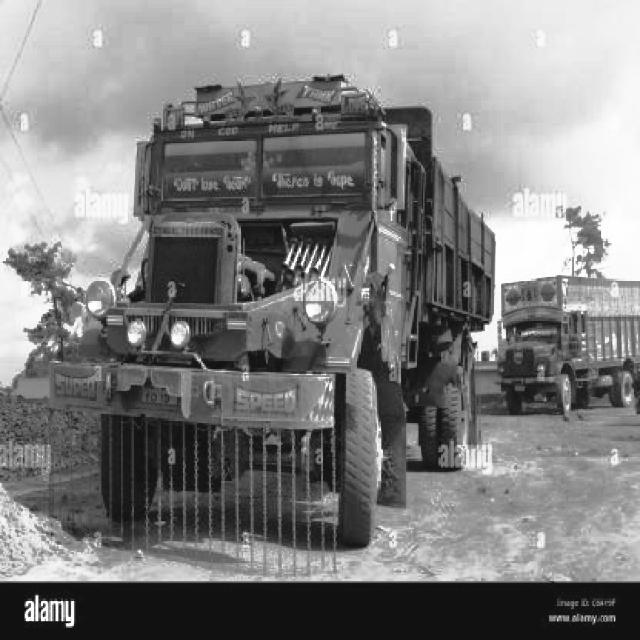HCV: (132, 114, 466, 475), (498, 289, 640, 440)
